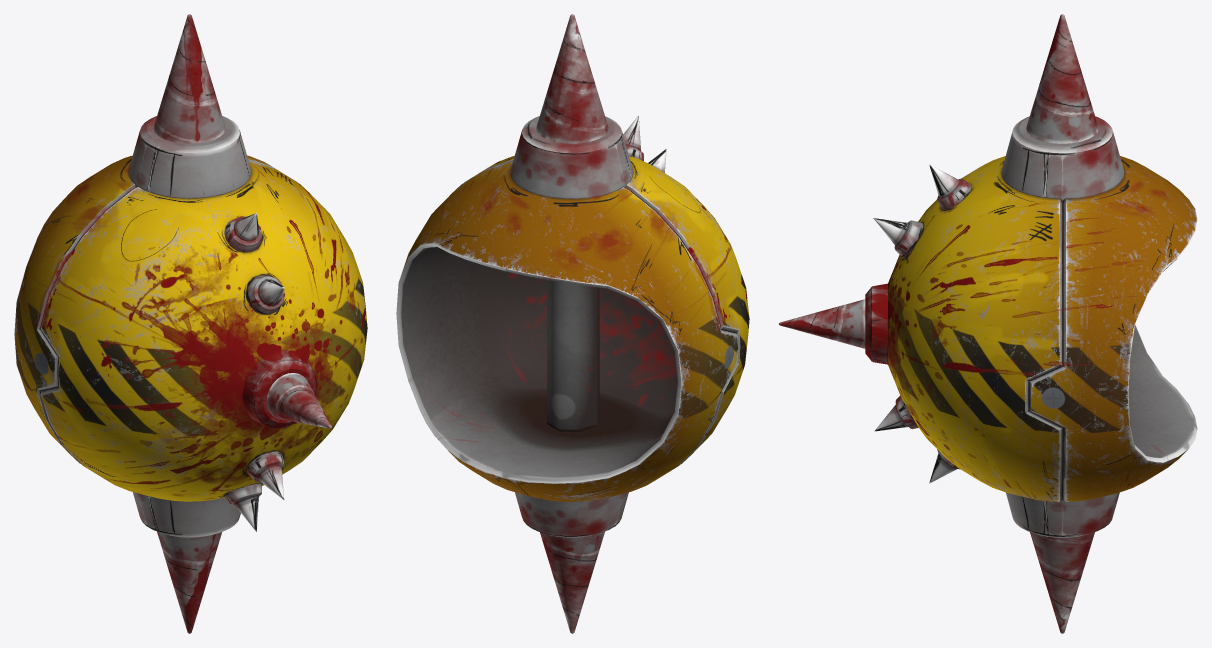
File: drillball.fbx
3 views of the same model, side by side, from view 1: azimuth 30°, elevation 25°; view 2: azimuth 150°, elevation 25°; view 3: azimuth 270°, elevation 25° (orthographic).
Visible parts, largest first — view 1: Drillball; view 2: Drillball; view 3: Drillball.
Boxes of the visible parts, x1,y1,x2,y2 form: Drillball: (14,14,367,633); Drillball: (396,14,749,633); Drillball: (779,14,1197,633).
Size of the model in its own units: 80.1 by 154 by 94.19.
